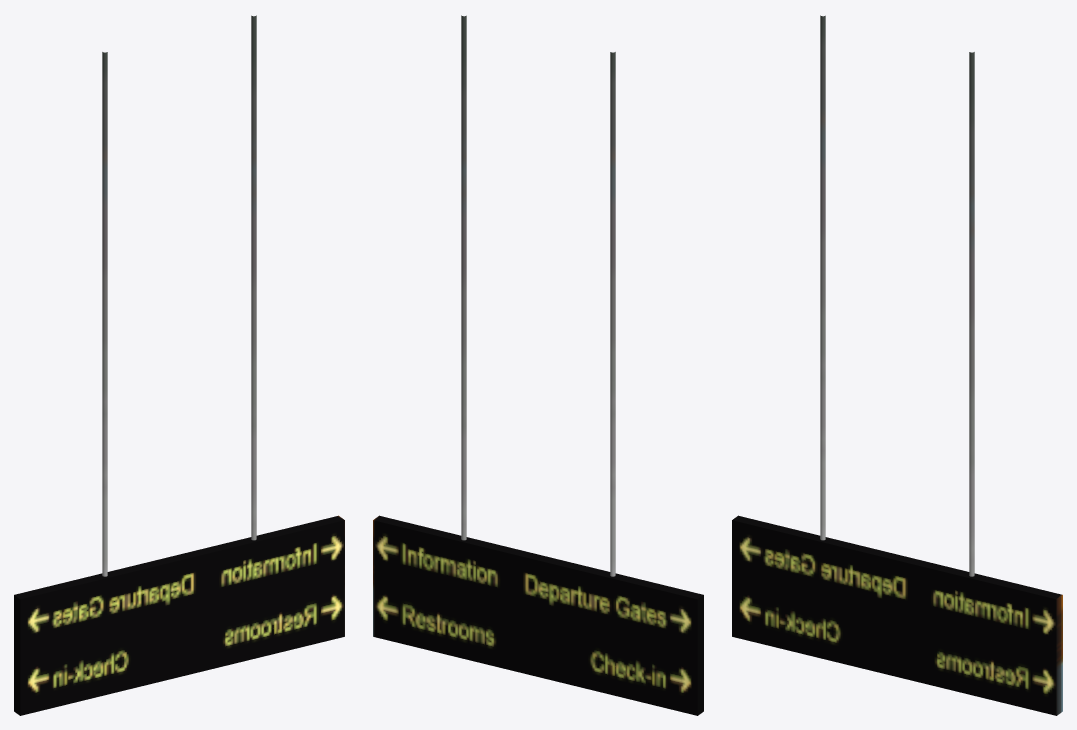
The model's file is 663bf900-248f-4db4-ac08-efe8f6e648eb.glb.
The picture shows the model from 3 angles, left to right: view 1: azimuth 30°, elevation 25°; view 2: azimuth 150°, elevation 25°; view 3: azimuth 330°, elevation 25°; orthographic projection.
Visible parts, largest first — view 1: AirportOverheadGateNumberSign00; view 2: AirportOverheadGateNumberSign00; view 3: AirportOverheadGateNumberSign00.
Part boxes in pixels (x1,y1,x2,y2): AirportOverheadGateNumberSign00: (14,15,344,715); AirportOverheadGateNumberSign00: (373,15,703,715); AirportOverheadGateNumberSign00: (732,15,1062,715).
Size of what is drawn, in the model's own units: 2.21 by 4.17 by 0.0731.
Materials: 1 (1 with a texture image).
